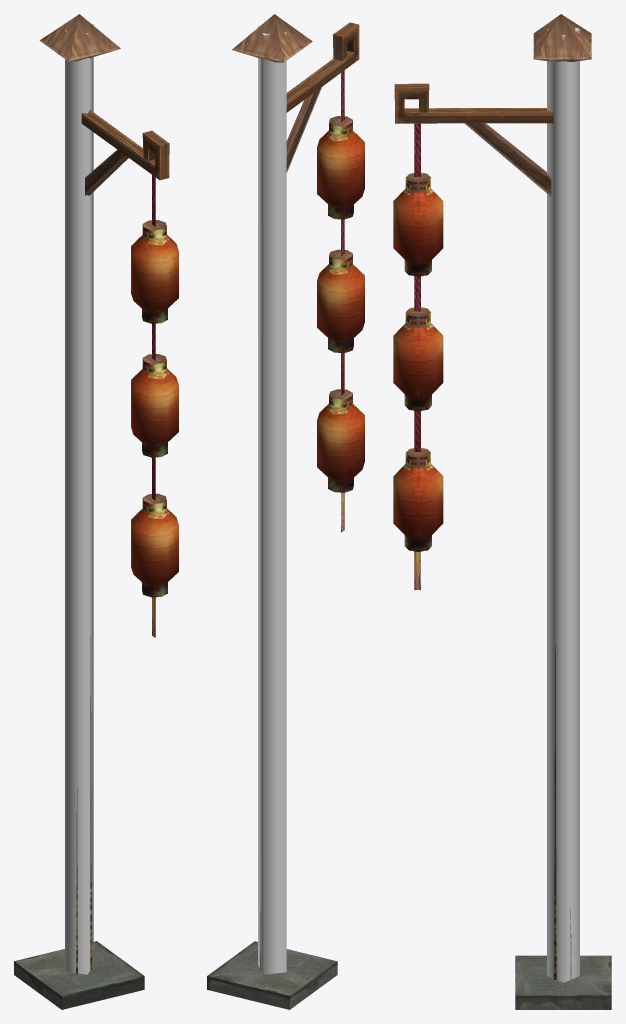
File: YHJ_denglong.FBX
3 renders of one model, left to right at view 1: azimuth 30°, elevation 25°; view 2: azimuth 150°, elevation 25°; view 3: azimuth 270°, elevation 25°, orthographic.
Visible parts, largest first — view 1: YHJ_denglong-col, YHJ_denglong; view 2: YHJ_denglong-col, YHJ_denglong; view 3: YHJ_denglong-col, YHJ_denglong.
Boxes of the visible parts, bbox=[...] form: YHJ_denglong-col: bbox=[65, 24, 93, 974]; YHJ_denglong: bbox=[14, 14, 178, 1009]; YHJ_denglong-col: bbox=[258, 25, 286, 974]; YHJ_denglong: bbox=[207, 14, 364, 1009]; YHJ_denglong-col: bbox=[547, 27, 579, 982]; YHJ_denglong: bbox=[393, 14, 611, 1009].
Size of the model in its own units: 0.5 by 5.59 by 1.13.
